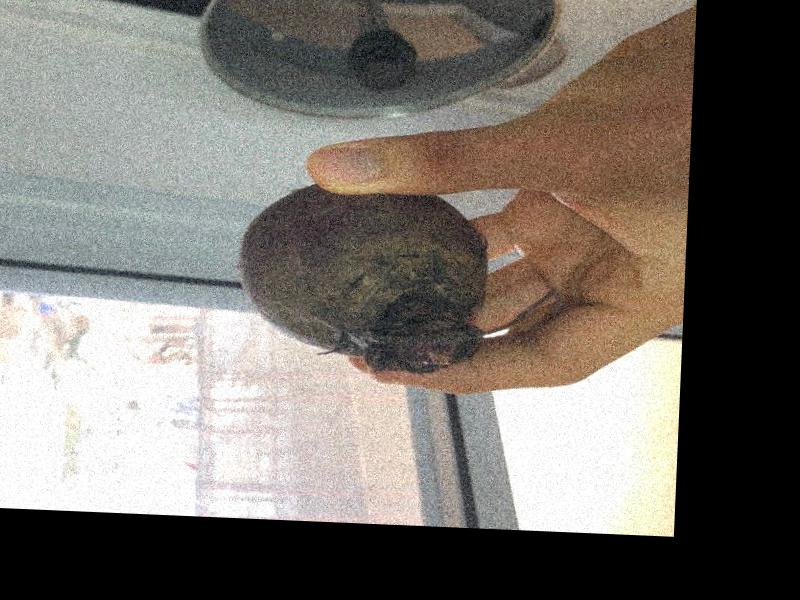Beet: (233, 179, 562, 380)
